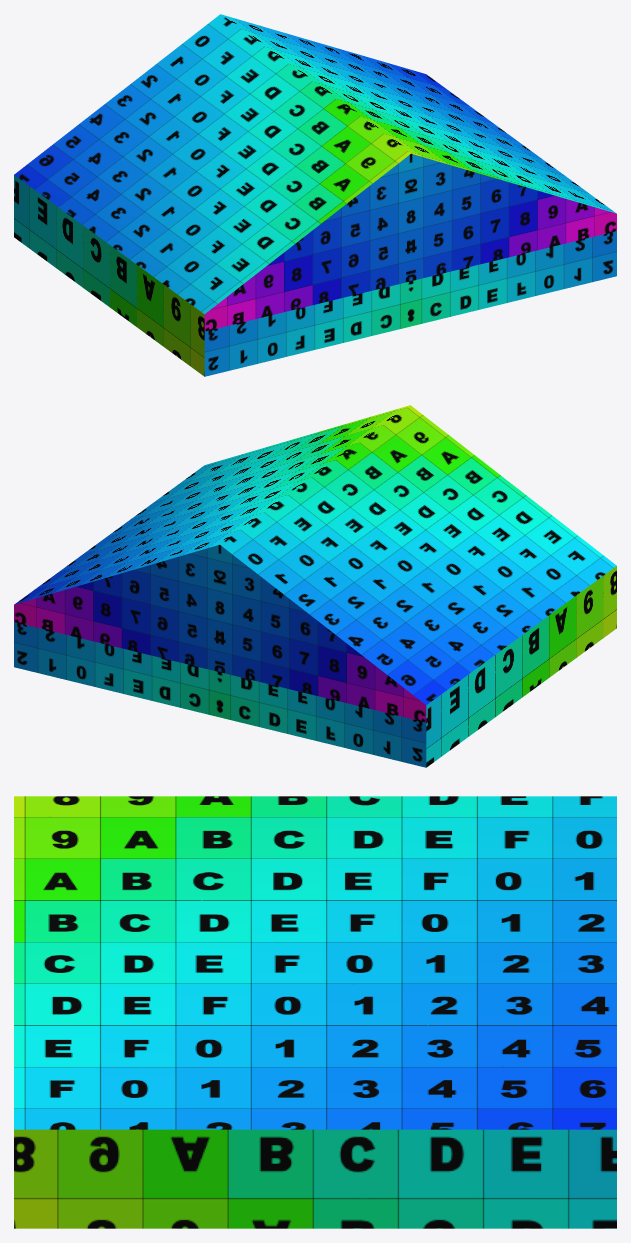
Rendered from Triangle_Roof_Standard.FBX.
3 renders of one model, top to bottom at view 1: azimuth 30°, elevation 25°; view 2: azimuth 150°, elevation 25°; view 3: azimuth 270°, elevation 25°, orthographic. The views are drawn at different scales.
Visible parts, largest first — view 1: Triangle roof; view 2: Triangle roof; view 3: Triangle roof.
Part boxes in pixels (box(x1,y1,x2,y2)): Triangle roof: box(14, 14, 616, 376); Triangle roof: box(14, 405, 616, 767); Triangle roof: box(14, 796, 616, 1228).
Bounding box in the file's own units: 1966 × 787 × 1575.
1 material, 1 textured.
